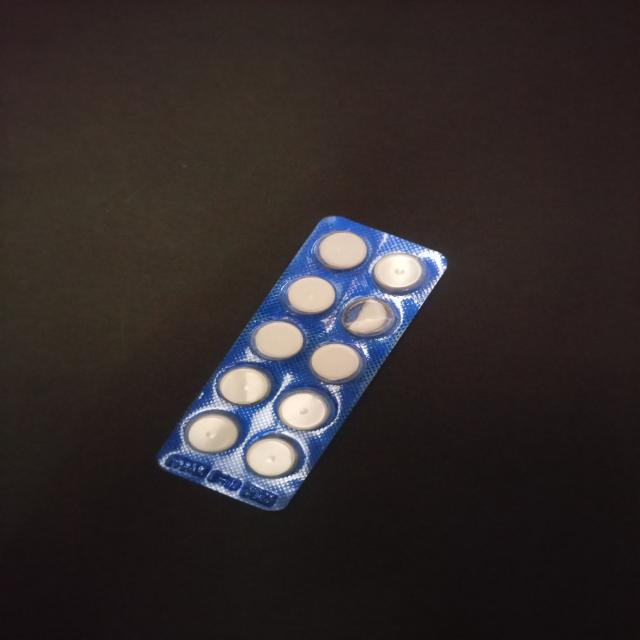defect: (338, 296, 399, 339)
